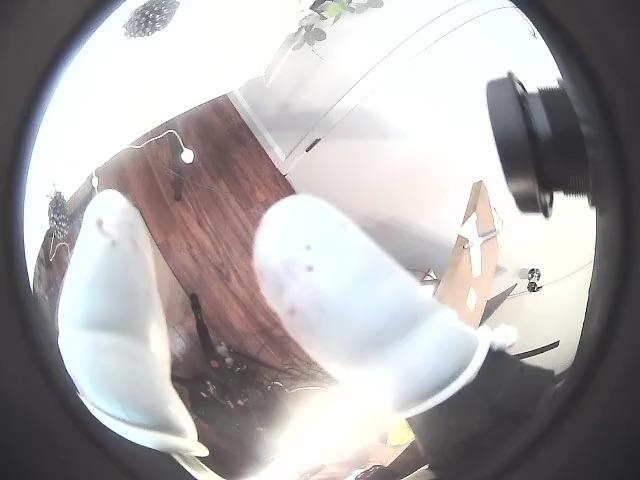berry: (124, 0, 179, 38), (49, 192, 71, 239)
gripper: (253, 194, 489, 417), (59, 191, 207, 455)
lense: (0, 0, 194, 479), (508, 0, 639, 479)
